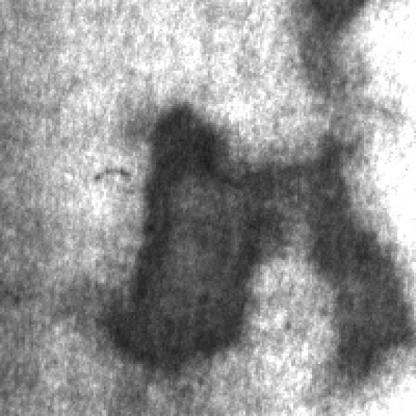patches: (100, 94, 278, 362), (287, 122, 412, 376), (292, 0, 376, 98)
